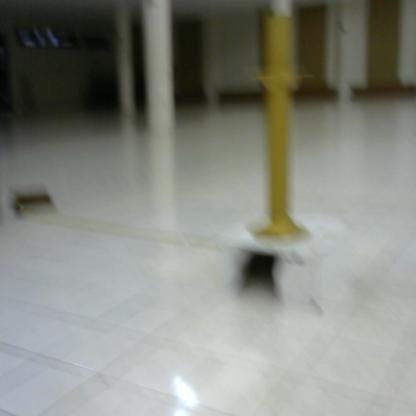pole: (250, 14, 318, 249)
